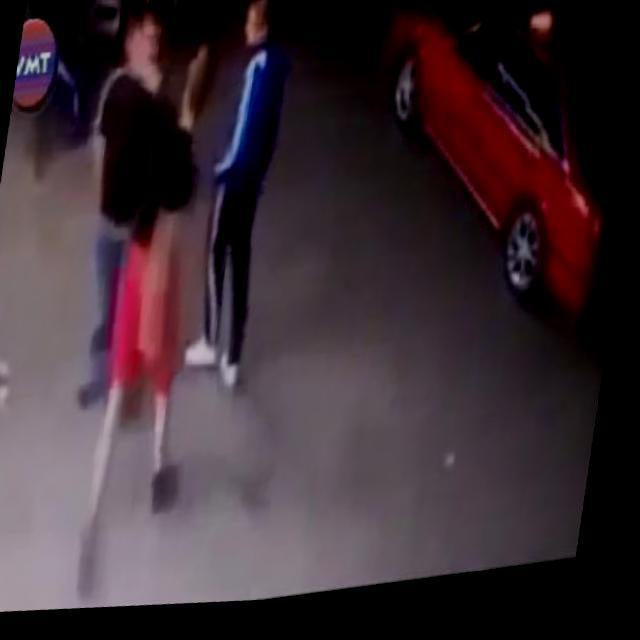fight: (32, 0, 264, 570)
